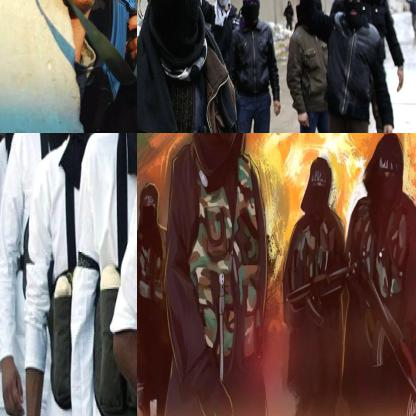rifle: (349, 254, 415, 415), (0, 0, 136, 67), (287, 252, 359, 323)
